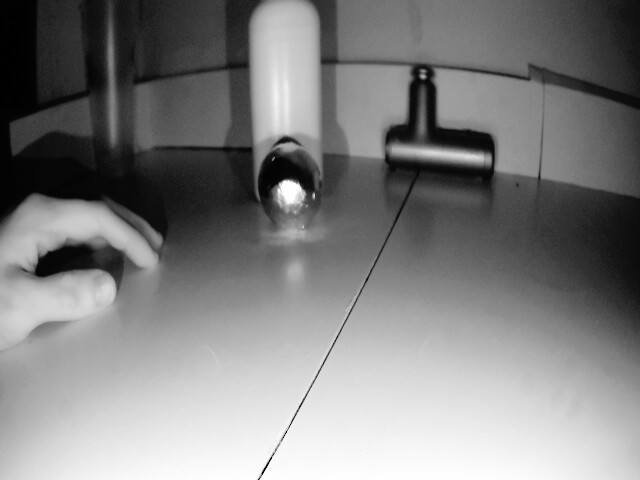black: (249, 144, 327, 240)
